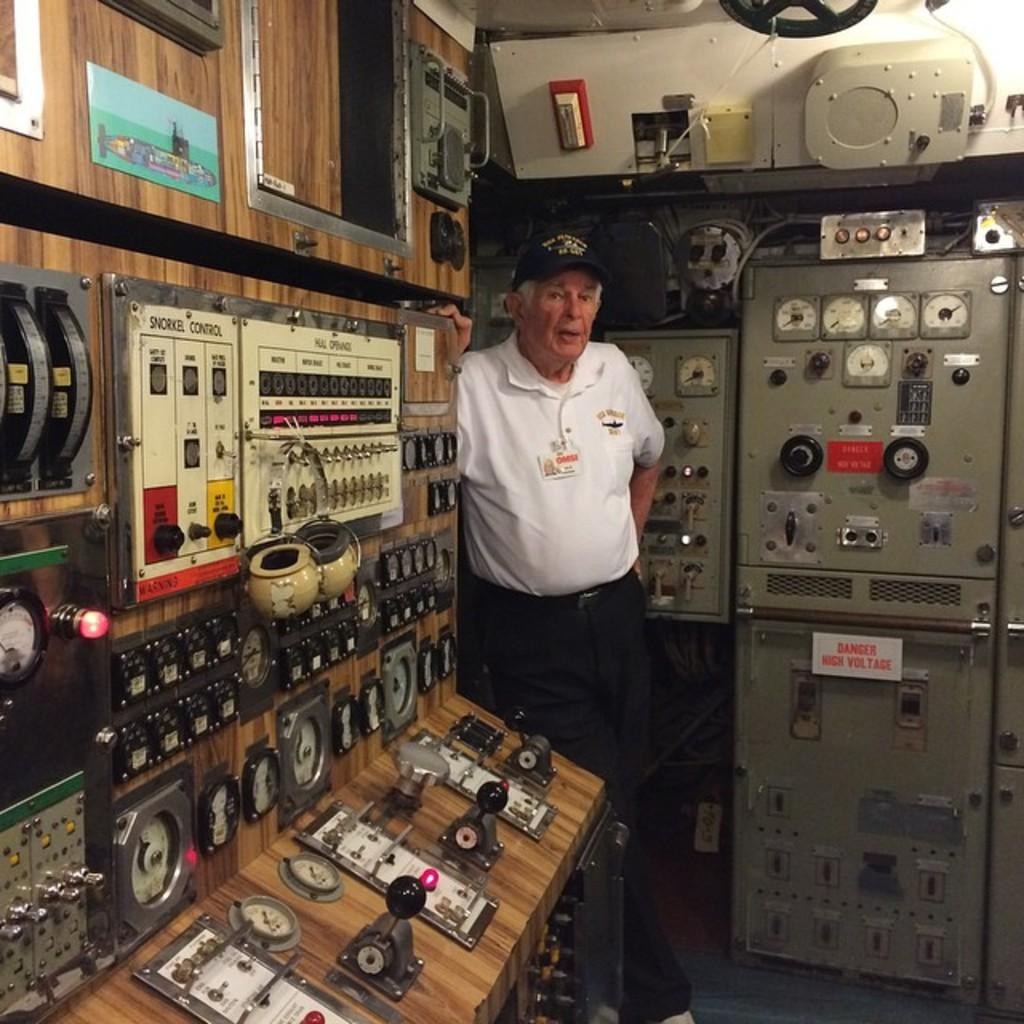Pessoa: (457, 230, 663, 828)
